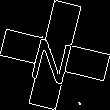N_N: (30, 26, 80, 84)
